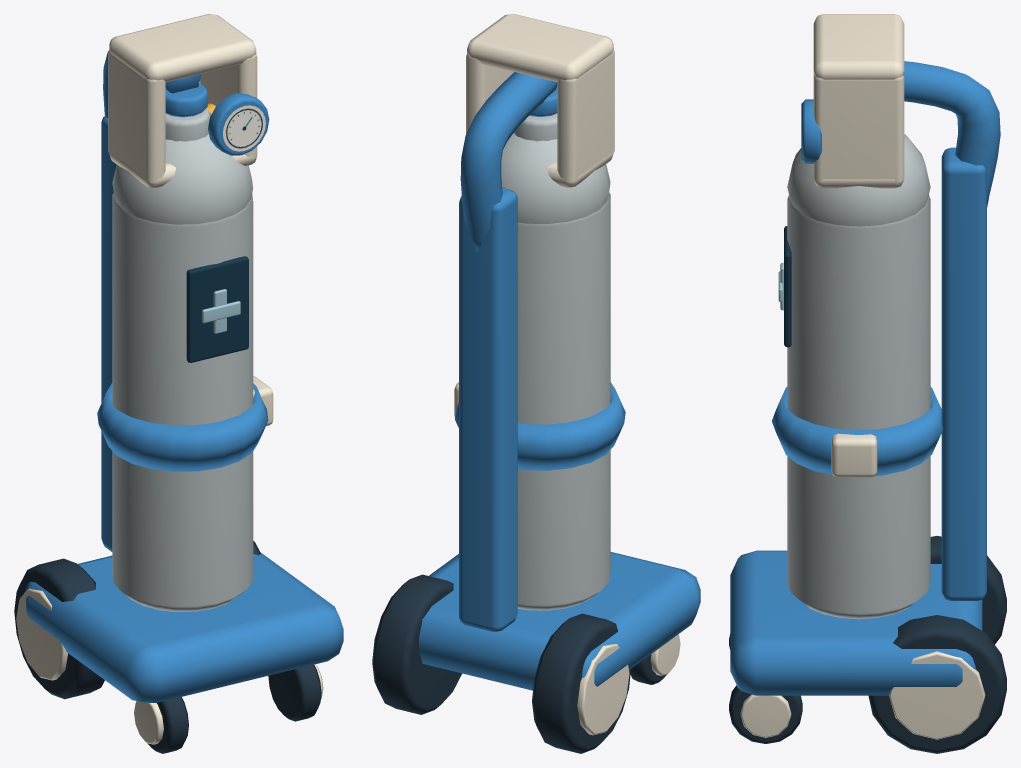
File: medical-04.glb
3 views of the same model, side by side, from view 1: azimuth 30°, elevation 25°; view 2: azimuth 150°, elevation 25°; view 3: azimuth 270°, elevation 25° (orthographic).
Parts seen in each view (by area): view 1: Fixed_Assembly_Plastic, Fixed_Assembly_Metal, Fixed_Assembly_Soft, Gauge_symbolic_face_Plastic, Valve_control_Plastic; view 2: Fixed_Assembly_Plastic, Fixed_Assembly_Metal, Fixed_Assembly_Soft; view 3: Fixed_Assembly_Plastic, Fixed_Assembly_Metal, Fixed_Assembly_Soft.
Part boxes in pixels (bbox=[...]): Fixed_Assembly_Plastic: bbox=[16, 14, 343, 744]; Fixed_Assembly_Metal: bbox=[112, 103, 253, 611]; Fixed_Assembly_Soft: bbox=[14, 541, 321, 753]; Gauge_symbolic_face_Plastic: bbox=[223, 105, 265, 151]; Valve_control_Plastic: bbox=[165, 83, 207, 117]; Fixed_Assembly_Plastic: bbox=[419, 14, 700, 735]; Fixed_Assembly_Metal: bbox=[501, 113, 610, 610]; Fixed_Assembly_Soft: bbox=[372, 574, 666, 753]; Fixed_Assembly_Plastic: bbox=[730, 14, 1000, 739]; Fixed_Assembly_Metal: bbox=[787, 134, 930, 619]; Fixed_Assembly_Soft: bbox=[729, 536, 1006, 753].
Bounding box in the file's own units: 0.39 × 1.15 × 0.43.
3 materials, 3 textured.
